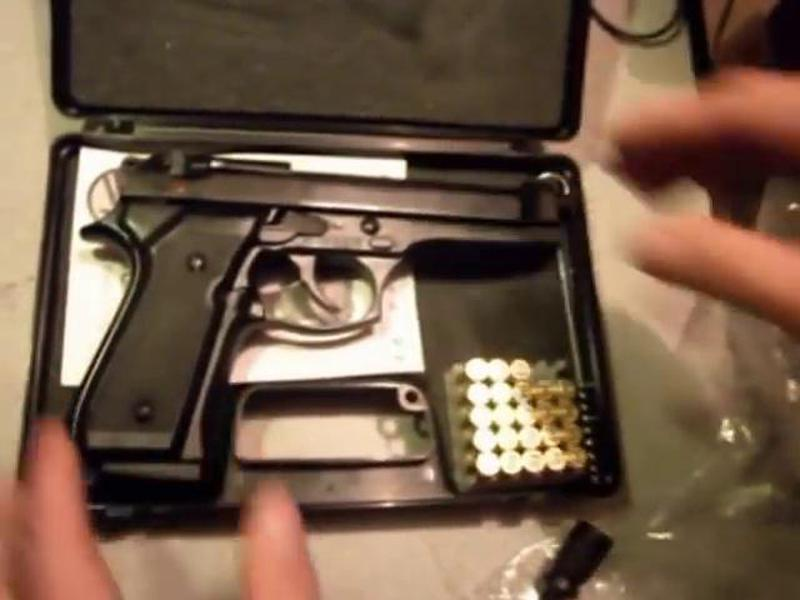Pistola: (59, 134, 571, 522)
